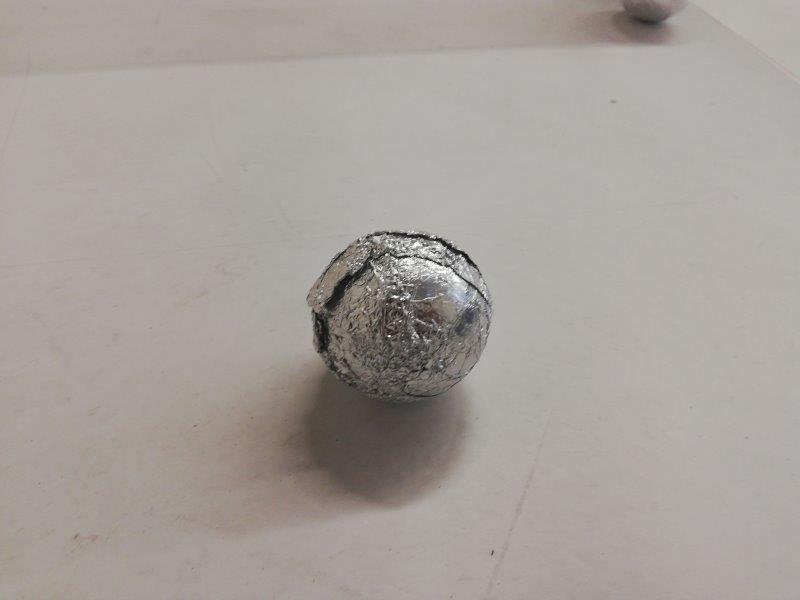bianca: (308, 225, 496, 408)
